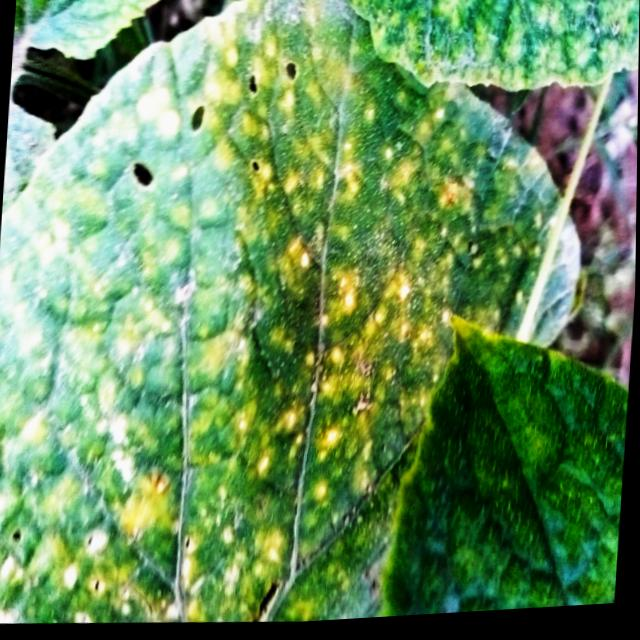Downy-Mildew: (0, 0, 579, 623), (344, 0, 640, 94)
